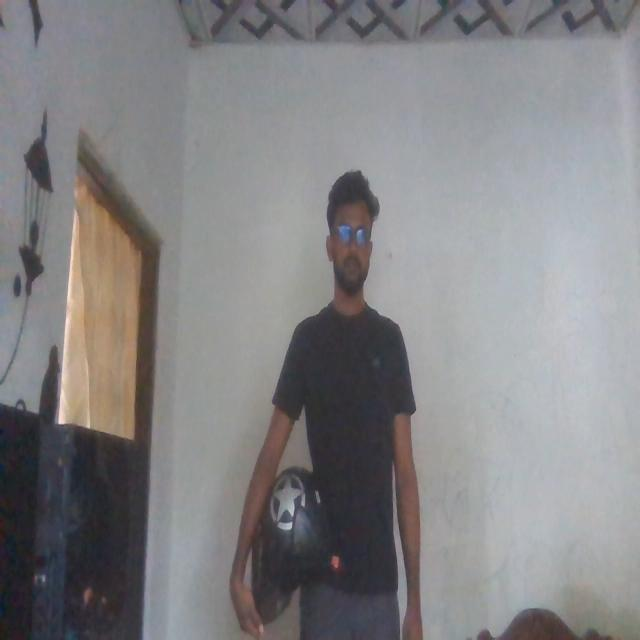Person: (260, 171, 435, 640)
